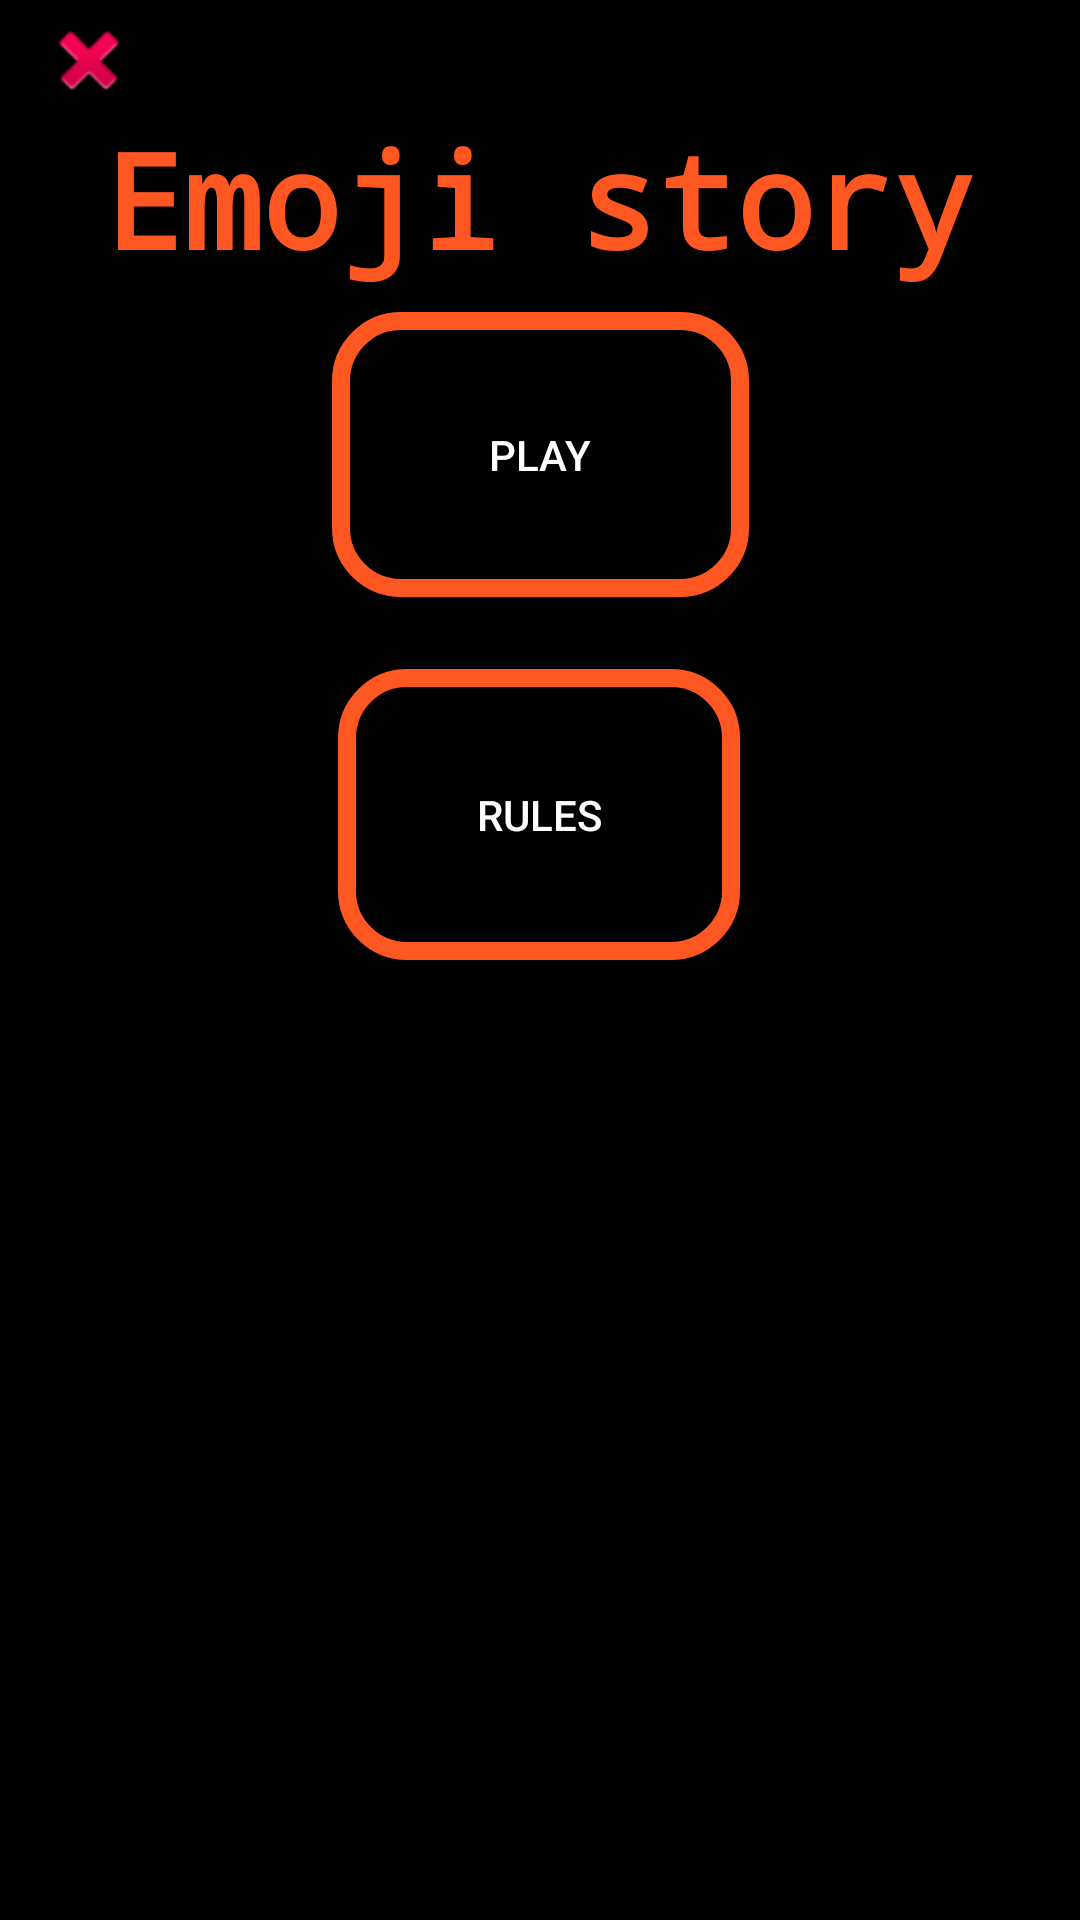

Locate icon controls on the screen. Image size 1080 x 1920, boxes as (x1, y1, x2, y2).
delete: (58, 31, 120, 90)
